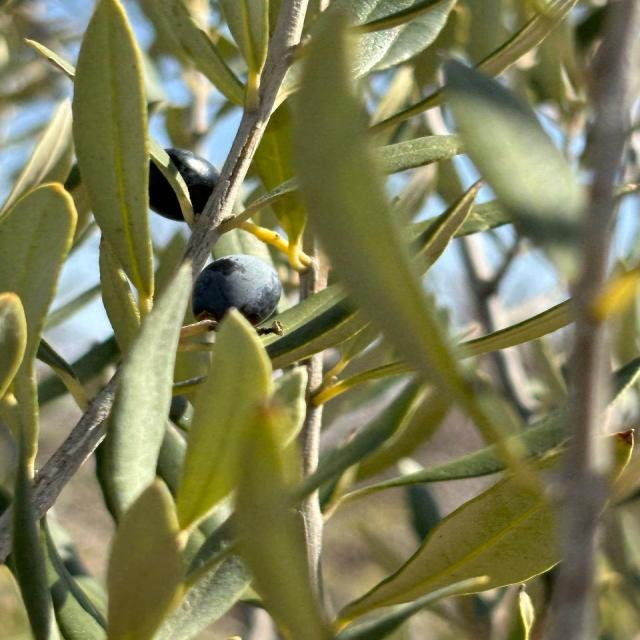Healthy: (186, 6, 301, 260), (73, 0, 159, 312), (192, 254, 281, 324)
